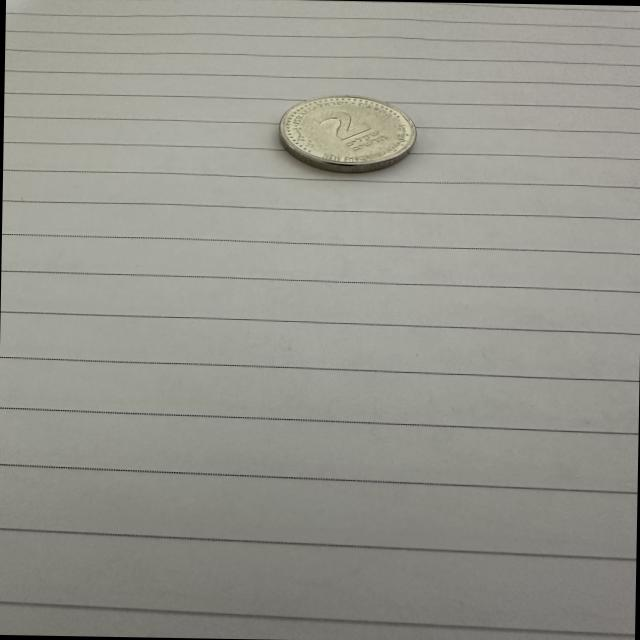2-shekel: (276, 93, 420, 171)
